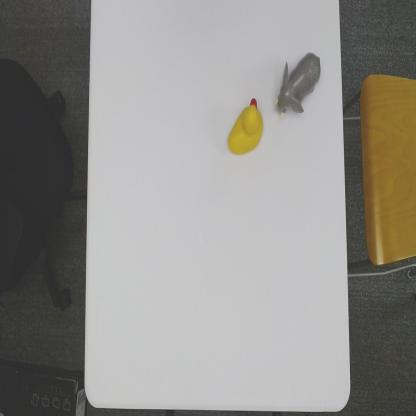Duck: (224, 94, 265, 156)
Elephant: (274, 48, 321, 122)
